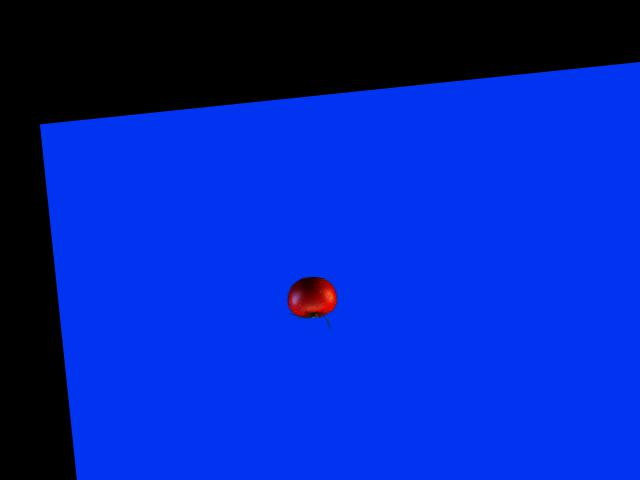tomato: (284, 274, 338, 319)
